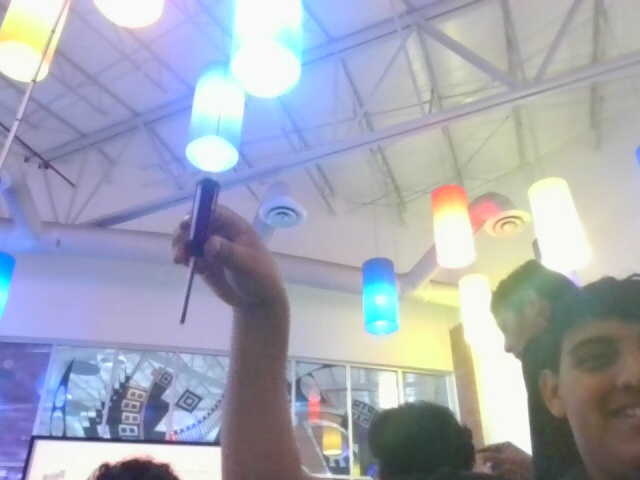destornillador: (179, 176, 219, 323)
